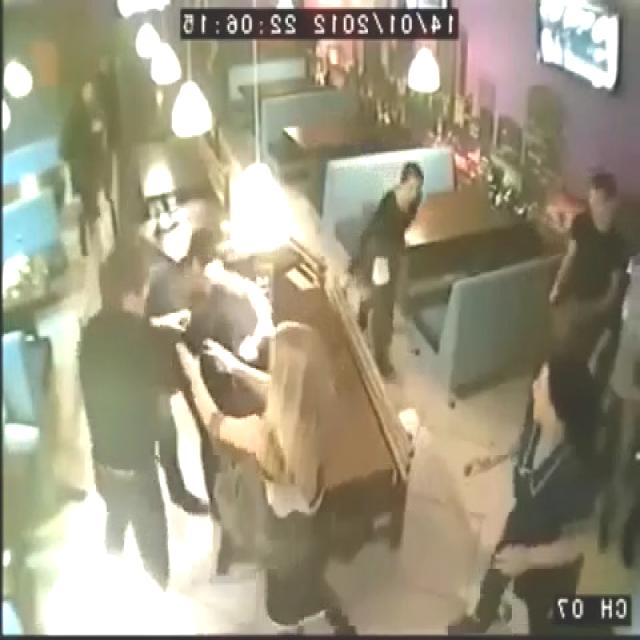fight: (119, 220, 253, 459)
